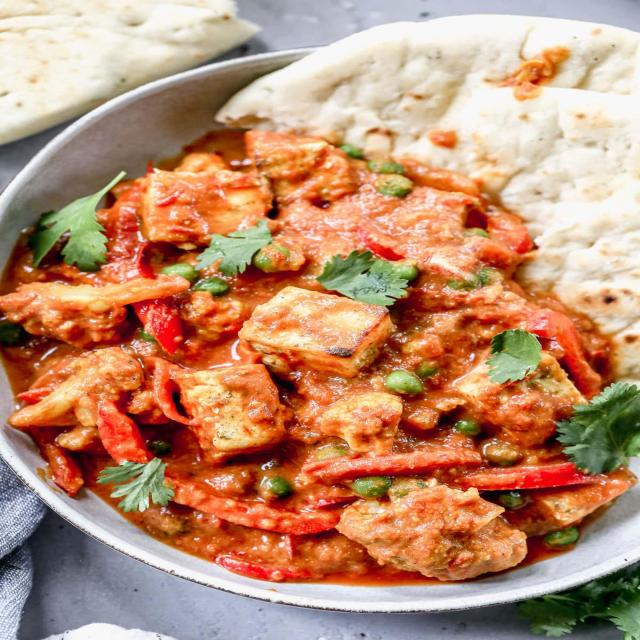roti: (414, 40, 640, 152)
